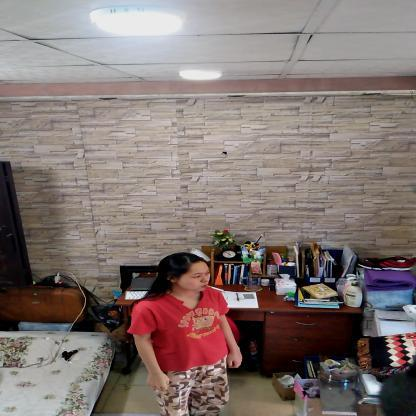cigarette: (206, 284, 225, 292)
person: (138, 251, 246, 415)
